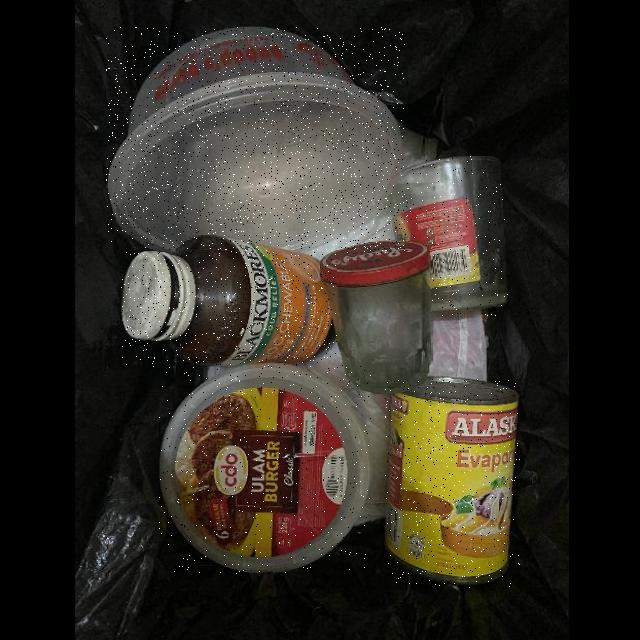glass: (121, 236, 337, 368), (391, 156, 510, 316), (320, 238, 432, 395)
metal: (384, 379, 520, 588)
plastic: (107, 27, 405, 254), (160, 365, 371, 575)
